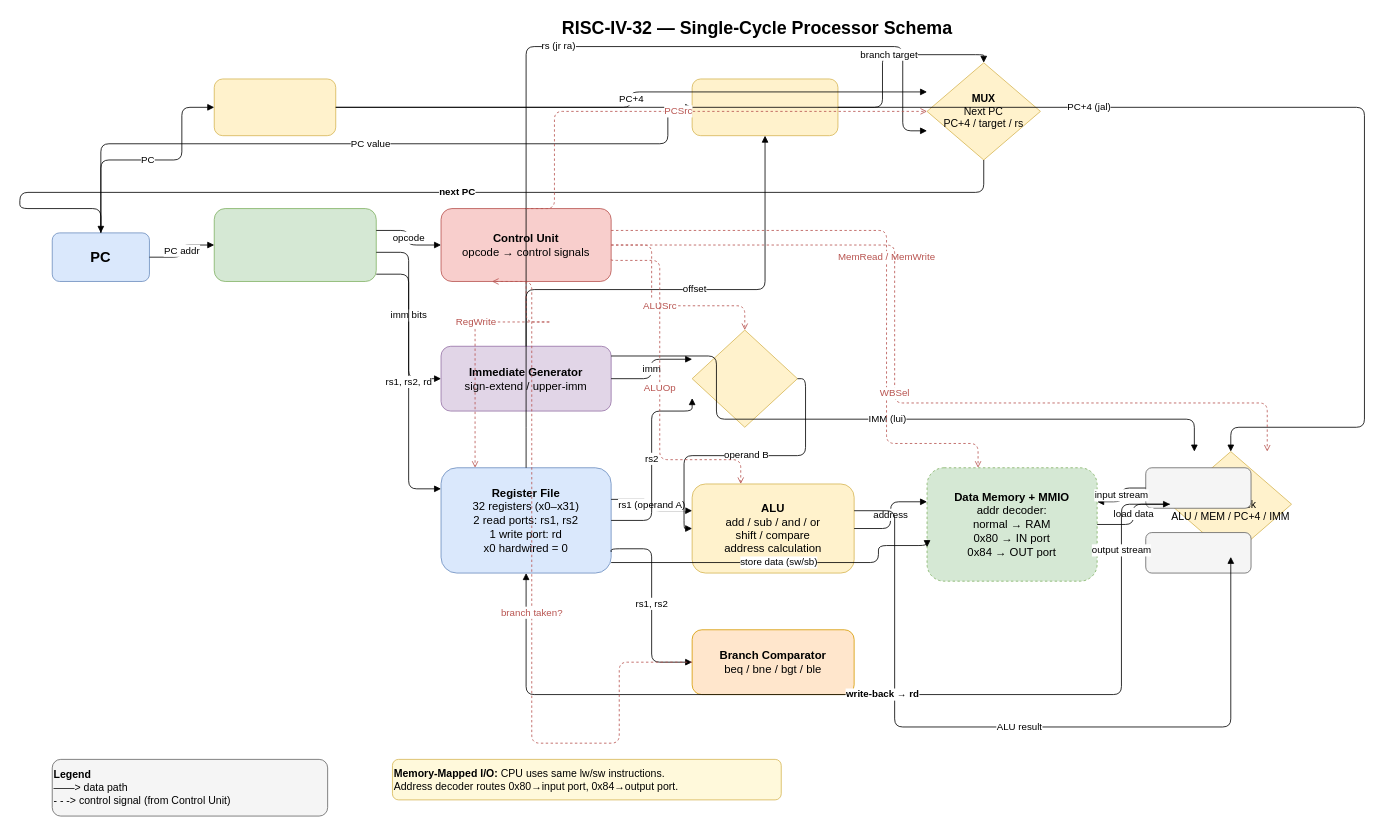
This 1385x830 diagram has some shape labels left out. The centre of each missing label's shape, as x and y in pixels:
"Adder PC + 4" goes at pixel 274 107.
"Branch Adder PC + imm offset" goes at pixel 764 107.
"INPUT (e.g. 104='h')" goes at pixel 1198 487.
"Instruction Memory fetch 32-bit instruction" goes at pixel 294 244.
"MUX ALUSrc rs2 / imm" goes at pixel 744 378.
"OUTPUT (e.g. 111='o')" goes at pixel 1198 552.
